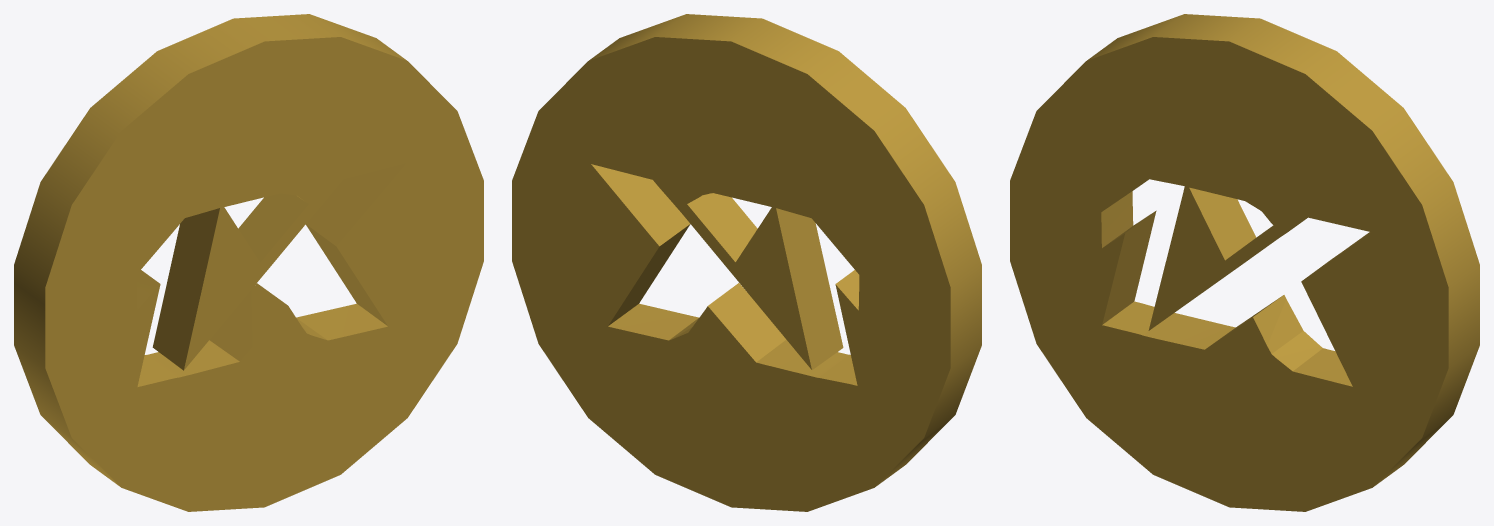
The model's file is coin.glb.
The picture shows the model from 3 angles, left to right: view 1: azimuth 30°, elevation 25°; view 2: azimuth 150°, elevation 25°; view 3: azimuth 330°, elevation 25°; orthographic projection.
Visible parts, largest first — view 1: coin_gold; view 2: coin_gold; view 3: coin_gold.
Boxes of the visible parts, box(x1,y1,x2,y2) form: coin_gold: box(14, 14, 483, 511); coin_gold: box(512, 14, 981, 511); coin_gold: box(1010, 14, 1479, 511).
Size of the model in its own units: 0.5342 by 0.5425 by 0.066.
